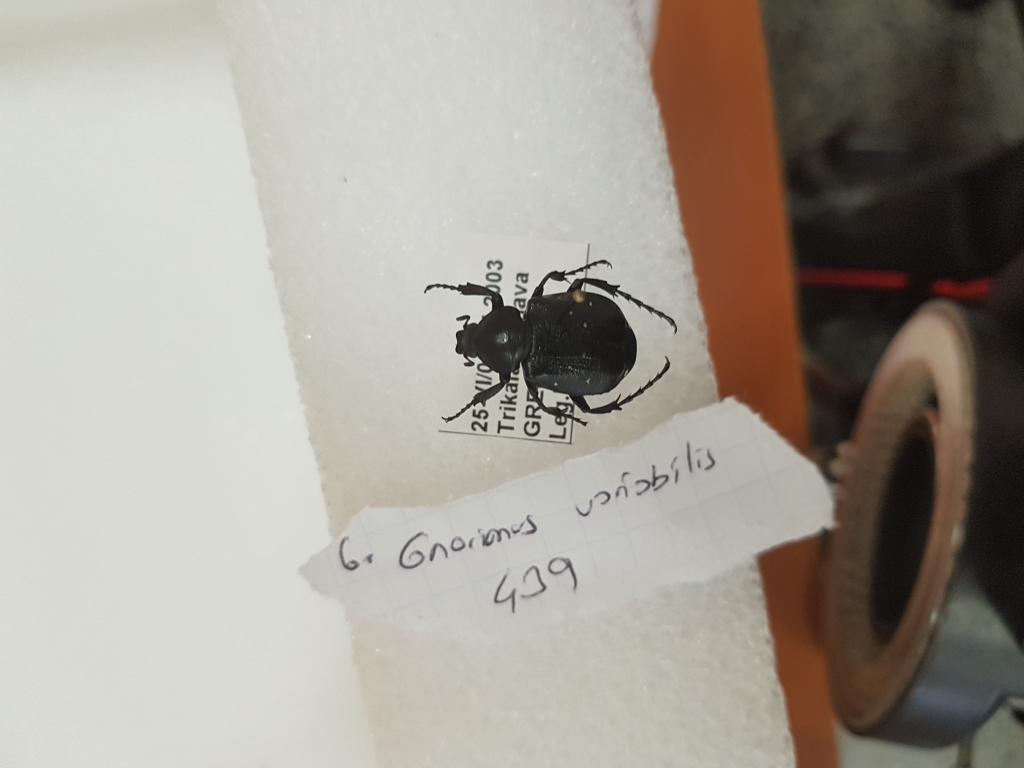Gnorimus_variabilis: (423, 258, 683, 427)
